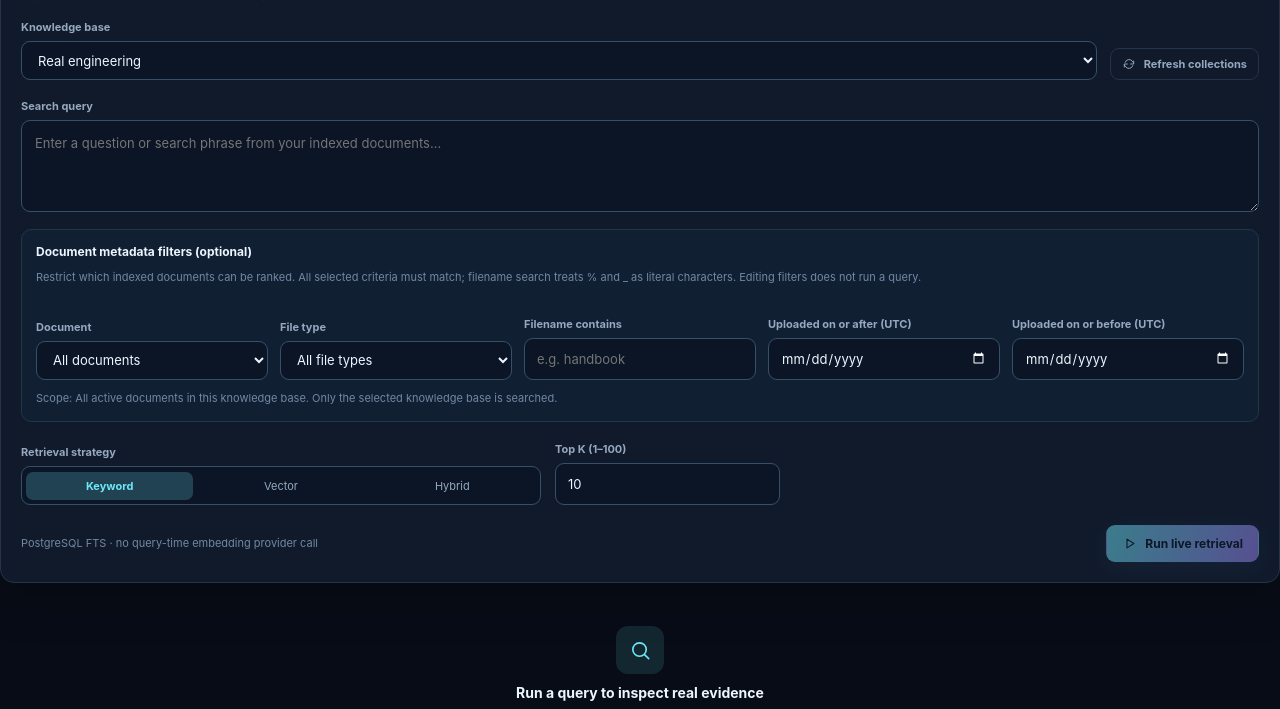
Test case: live retrieval lab › restricts search by document, type and filename without any automatic requests
This screenshot has width=1280, height=709.
(page scrolled)
Select "Operations manual.pdf" in the dropdown labelled "Document" at (152, 360), box [36,341,268,380]
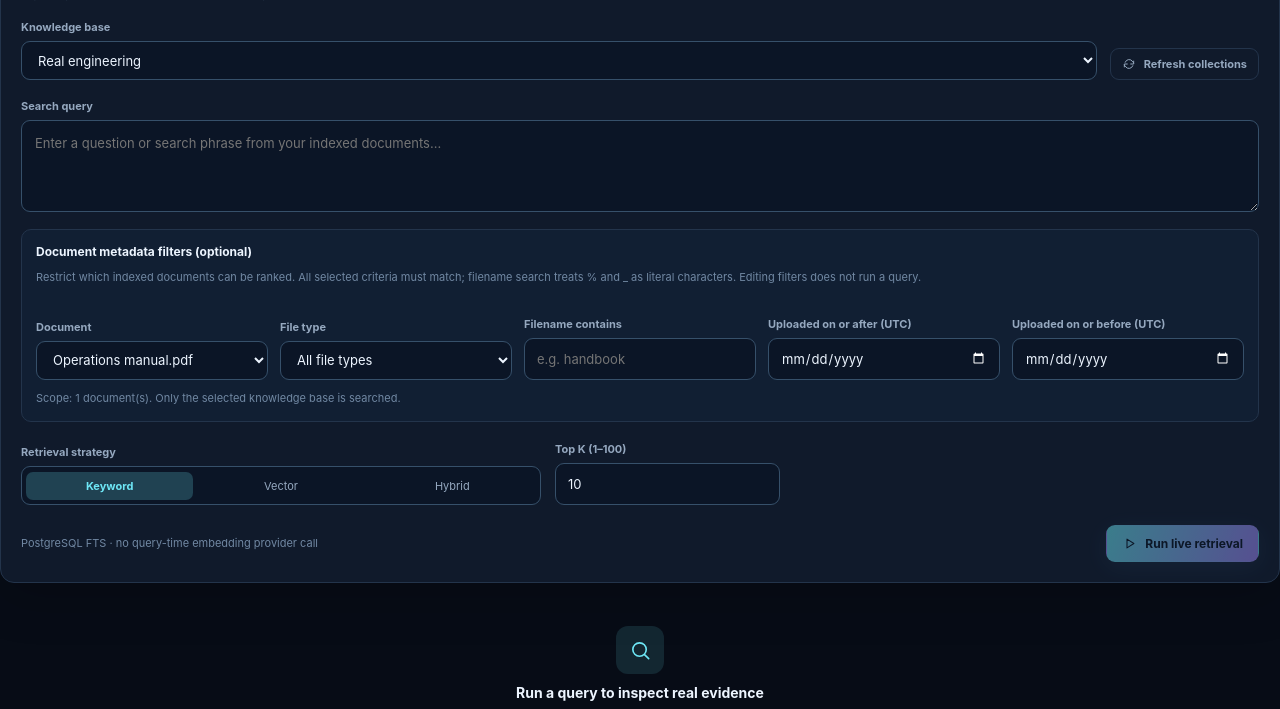
Select "PDF" in the dropdown labelled "File type" at (396, 360), box [280,341,512,380]
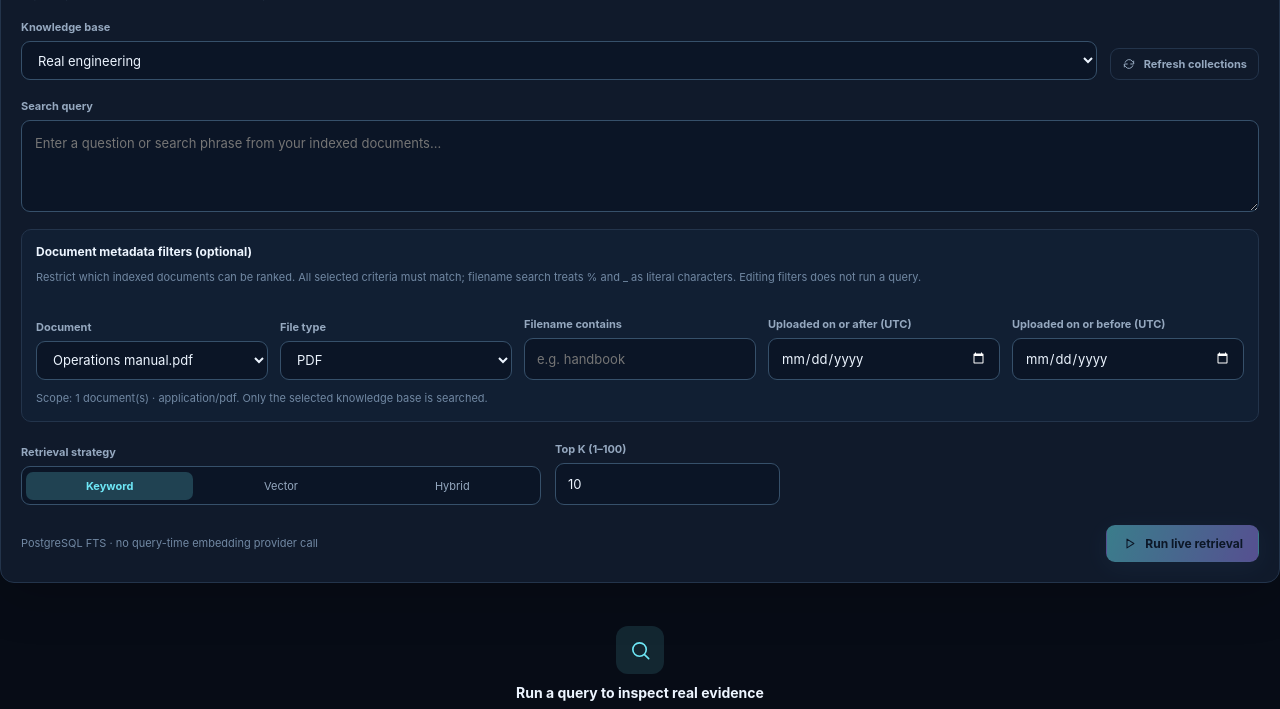
Type "manual" into the field labelled "Filename contains" at (640, 359), box [524,338,756,380]
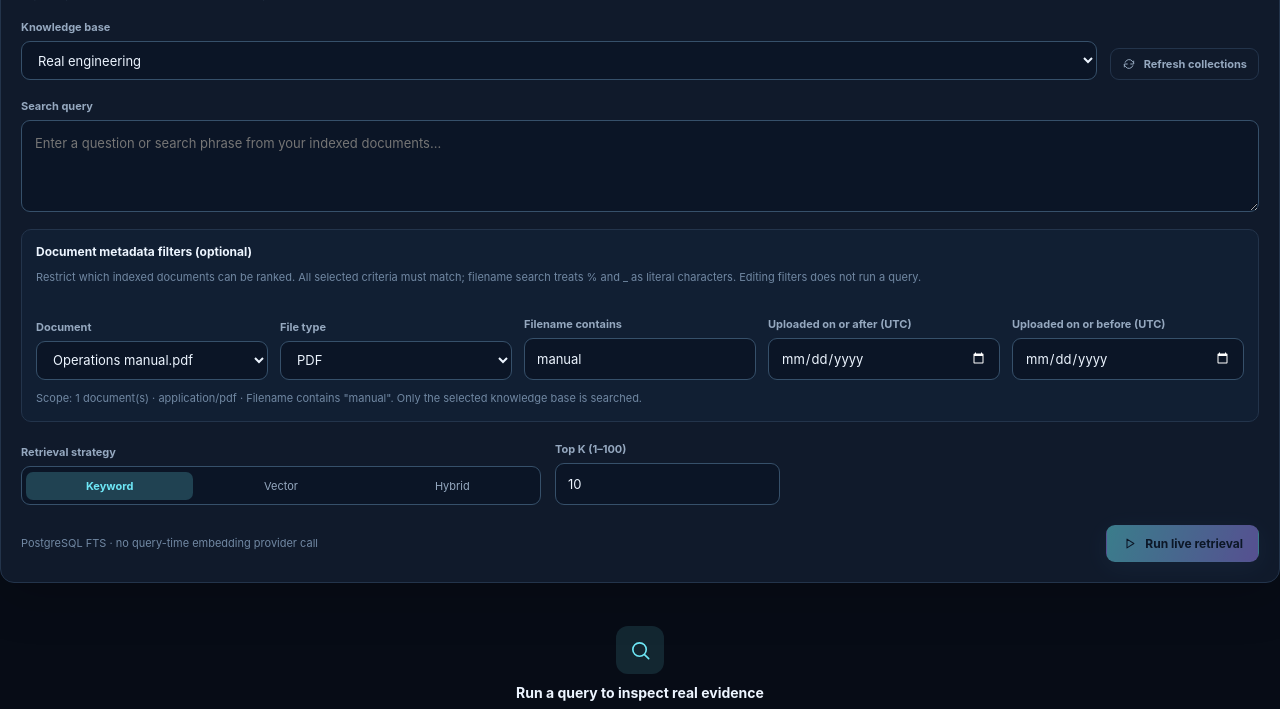
Replace the text in the text box labelled "Search query" with "retention" at (640, 166), box [21,120,1259,212]
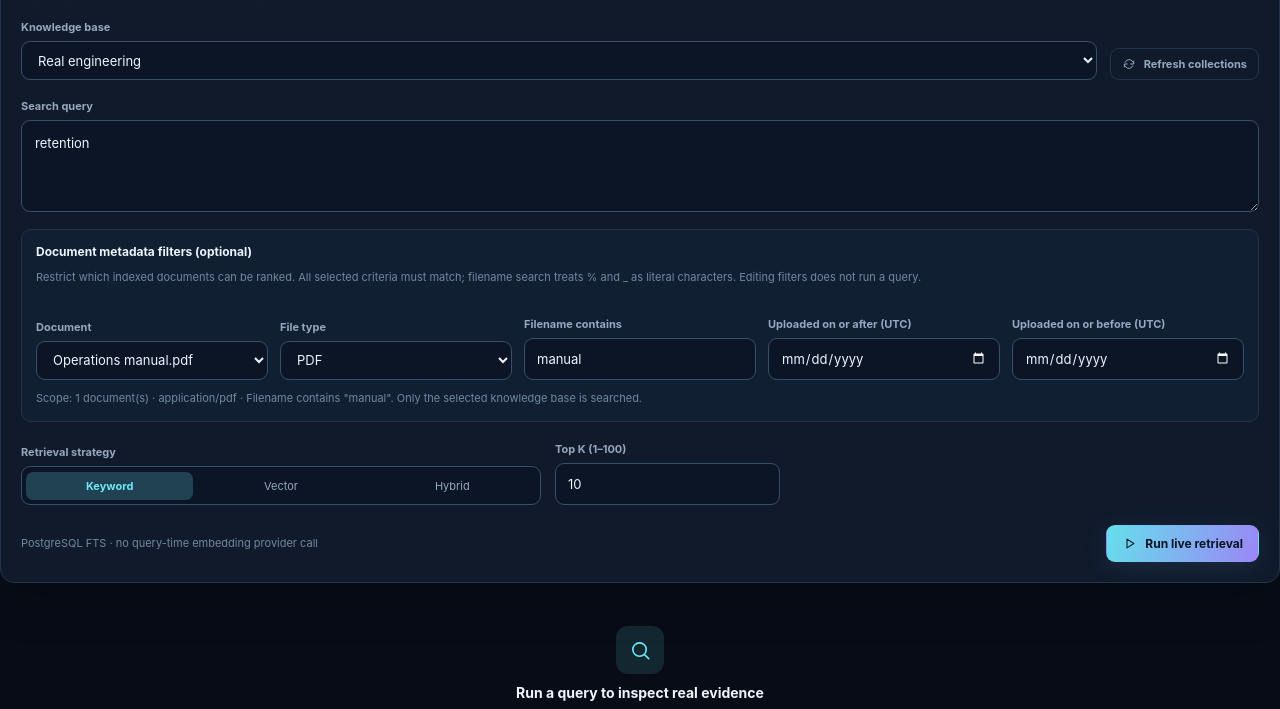
Click the button "Run live retrieval" at (1183, 544), box [1106,525,1259,562]
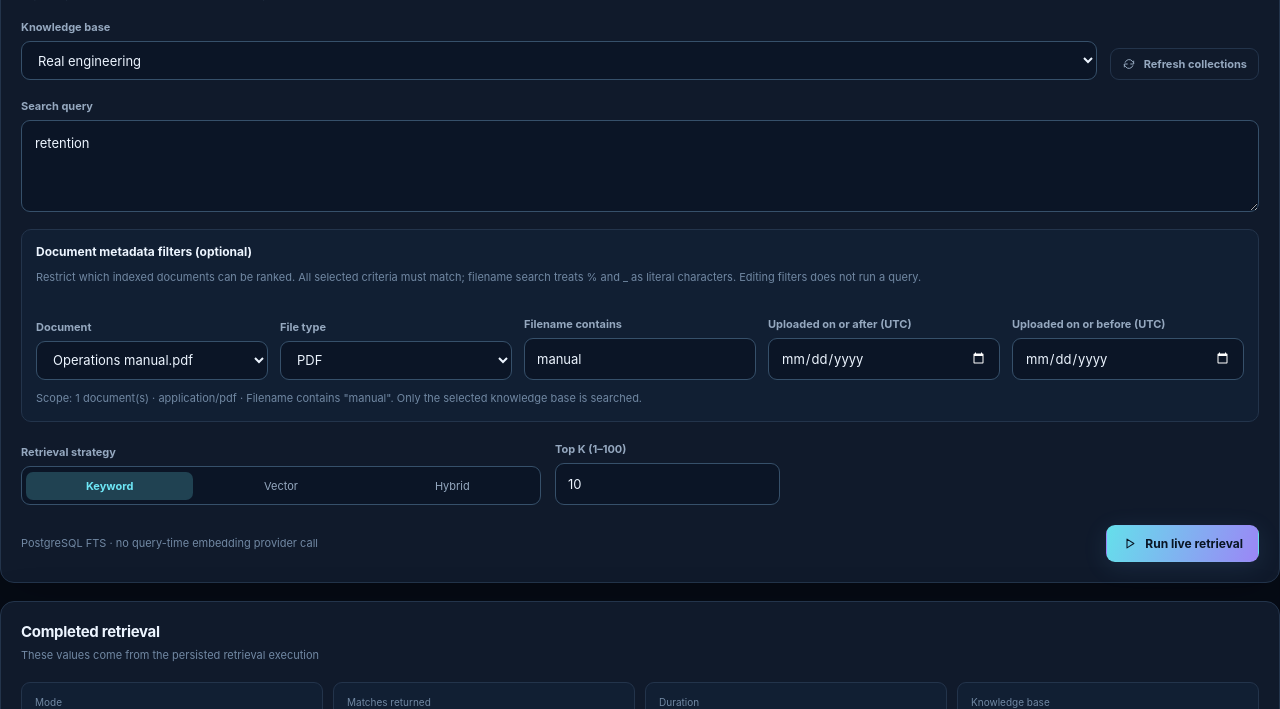
Replace the text in the field labelled "Filename contains" with "another" at (640, 359), box [524,338,756,380]
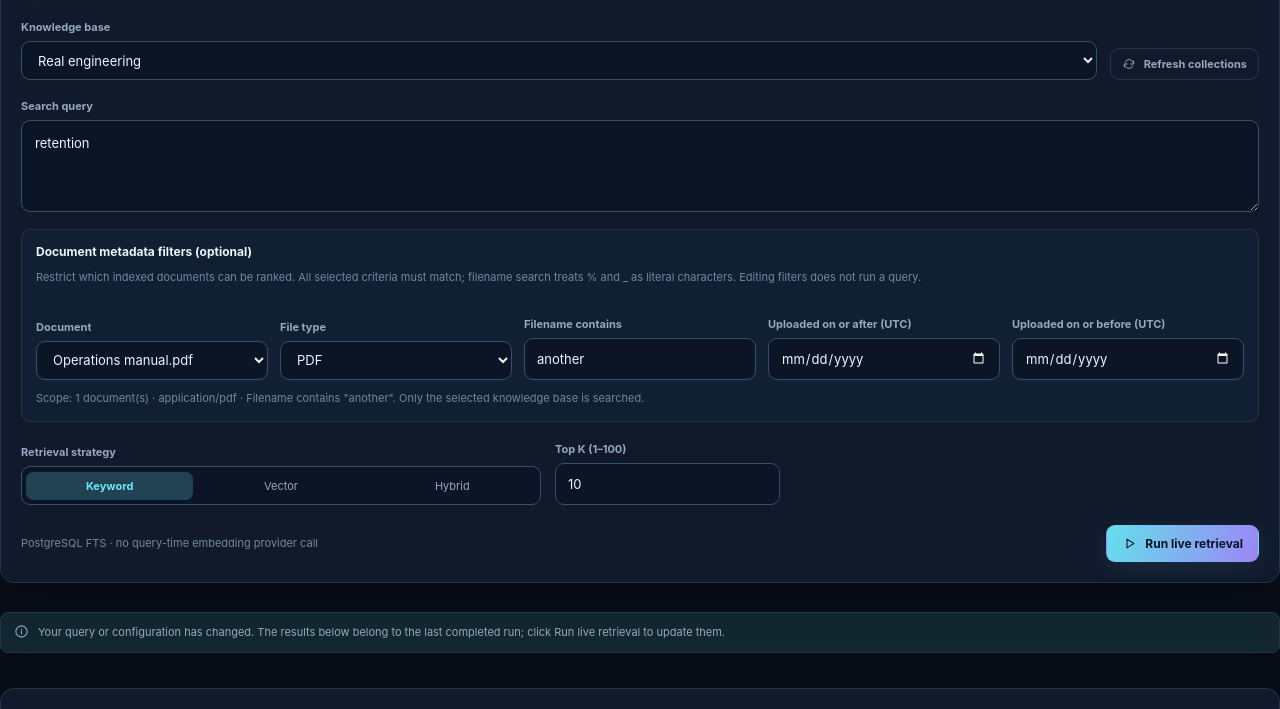
Now the text "results below belong to the last completed run" is shown, box [38,625,725,639]
